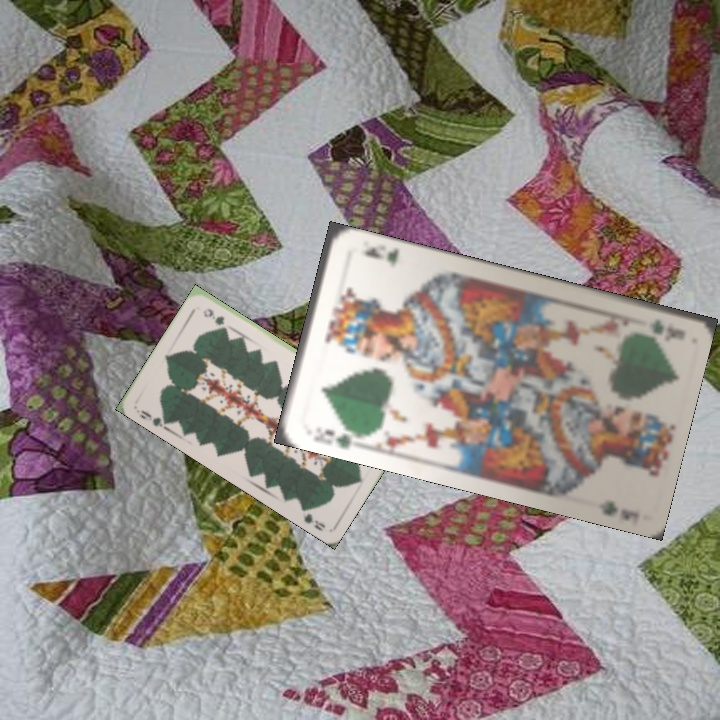G9: (136, 406, 172, 432)
GK: (309, 424, 362, 451), (645, 314, 687, 343)
